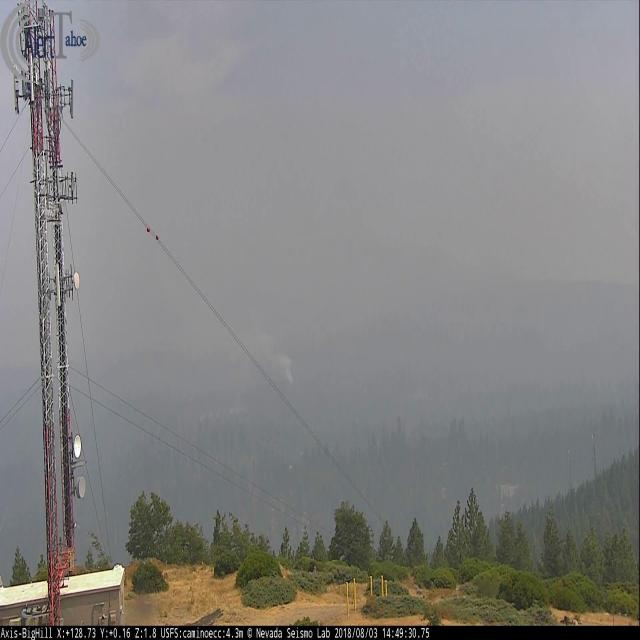smoke: (234, 297, 295, 387)
